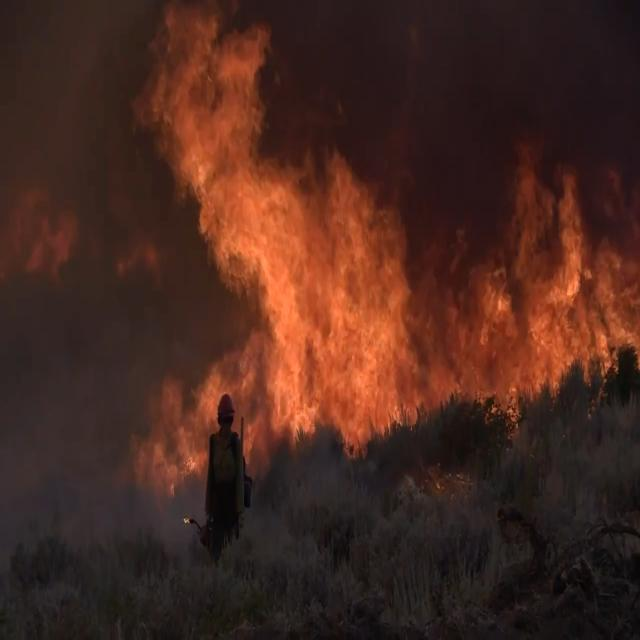Fire: (141, 3, 640, 529)
